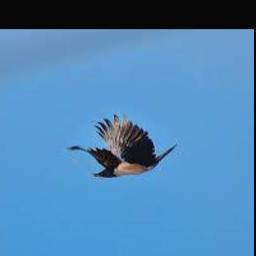Crow: (66, 115, 177, 179)
